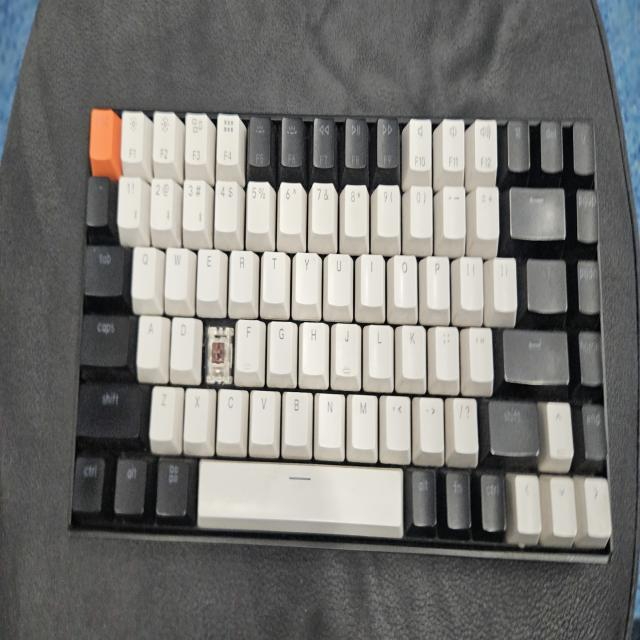C: (205, 326, 229, 382)
